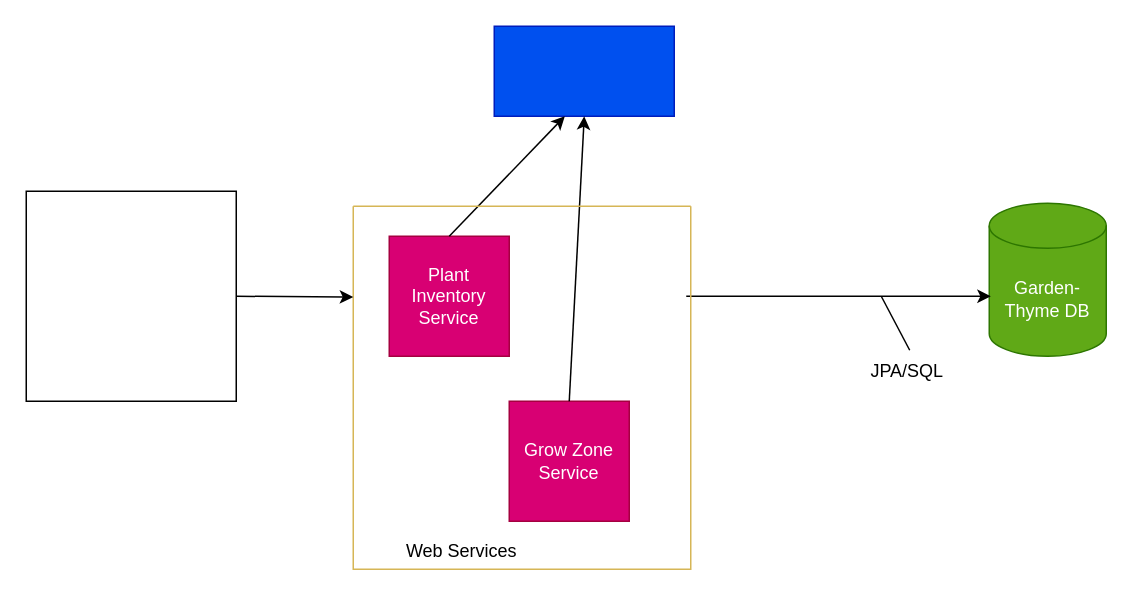
Image size: 1133x596. Some labels were removed from this diagram. The centre of each missing label's shape, as x and y in pixels:
Browser: (x=130, y=295)
Registration Service(Eureka): (x=583, y=70)
